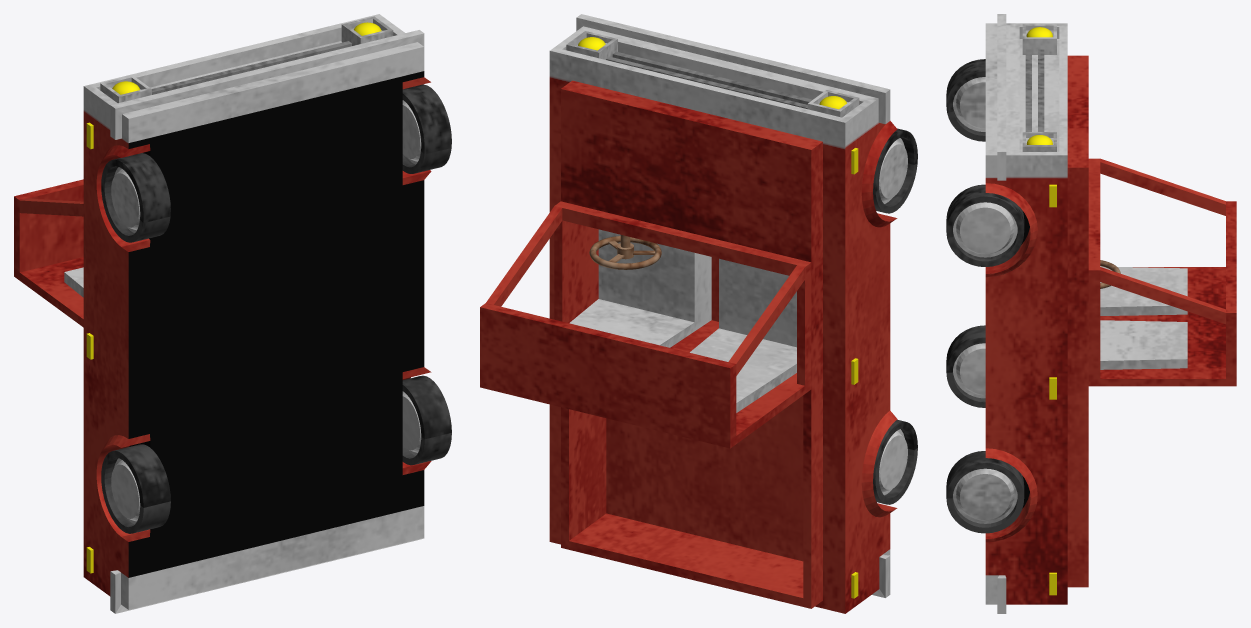
The model's file is SC_Car.fbx.
3 renders of one model, left to right at view 1: azimuth 30°, elevation 25°; view 2: azimuth 150°, elevation 25°; view 3: azimuth 270°, elevation 25°, orthographic. The views are drawn at different scales.
Parts seen in each view (by area): view 1: SC_Car; view 2: SC_Car; view 3: SC_Car.
Boxes of the visible parts, x1,y1,x2,y2 form: SC_Car: [14, 14, 451, 613]; SC_Car: [480, 14, 917, 613]; SC_Car: [946, 14, 1236, 613].
Bounding box in the file's own units: 13.81 × 21.49 × 12.23.
